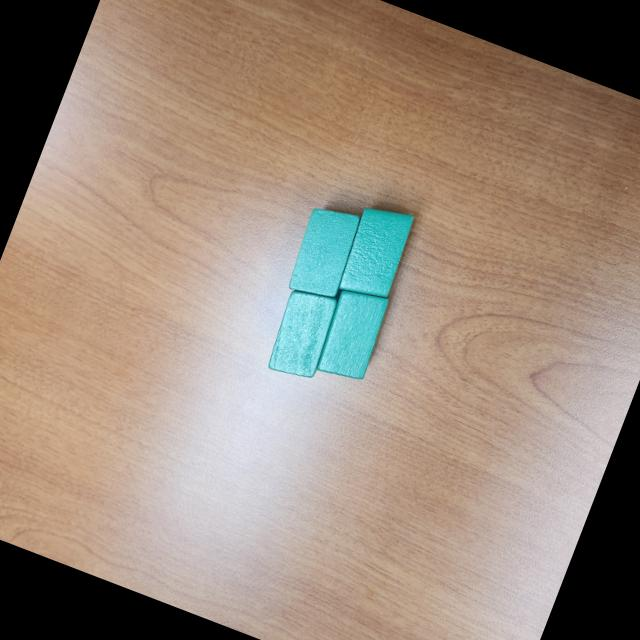green: (334, 198, 419, 307), (283, 197, 367, 305), (260, 283, 344, 387), (310, 282, 392, 388)
